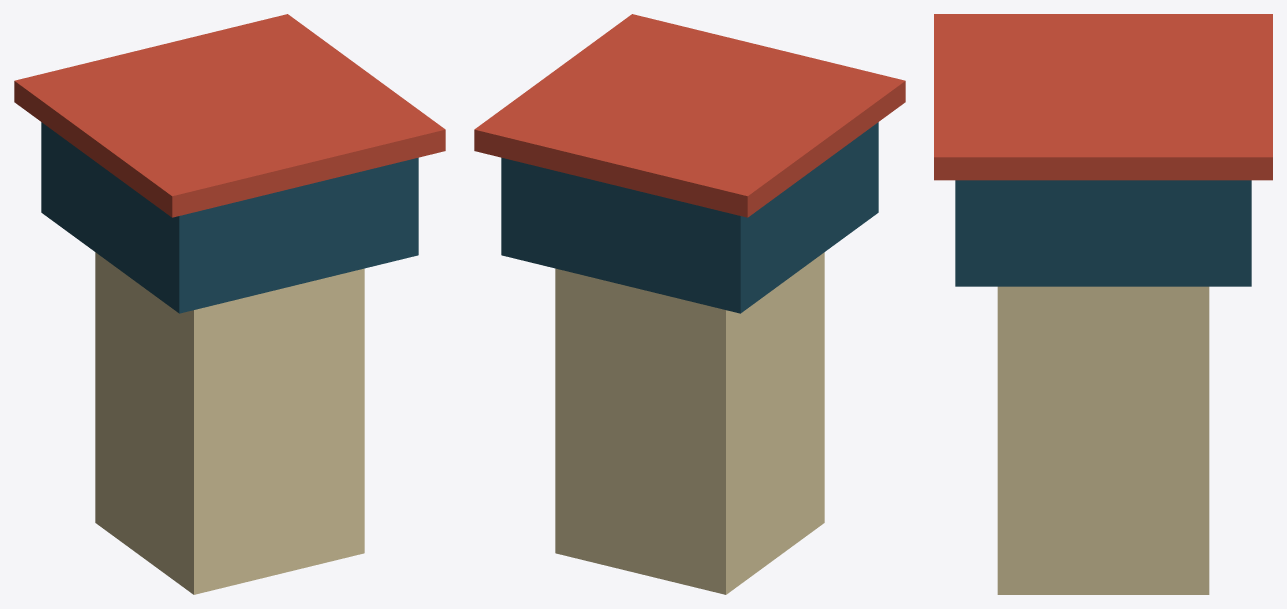
The model's file is race_tower.glb.
3 renders of one model, left to right at view 1: azimuth 30°, elevation 25°; view 2: azimuth 150°, elevation 25°; view 3: azimuth 270°, elevation 25°, orthographic. The views are drawn at different scales.
Visible parts, largest first — view 1: Tower, Roof, Cabin; view 2: Tower, Roof, Cabin; view 3: Tower, Roof, Cabin.
Part boxes in pixels (x1,y1,x2,y2): Tower: (95, 252, 364, 594); Roof: (14, 14, 445, 217); Cabin: (41, 122, 418, 313); Tower: (555, 252, 824, 594); Roof: (474, 14, 905, 217); Cabin: (501, 122, 878, 313); Tower: (997, 286, 1209, 594); Roof: (934, 14, 1272, 180); Cabin: (955, 180, 1251, 286).
Size of the model in its own units: 8 by 12.1 by 8.
